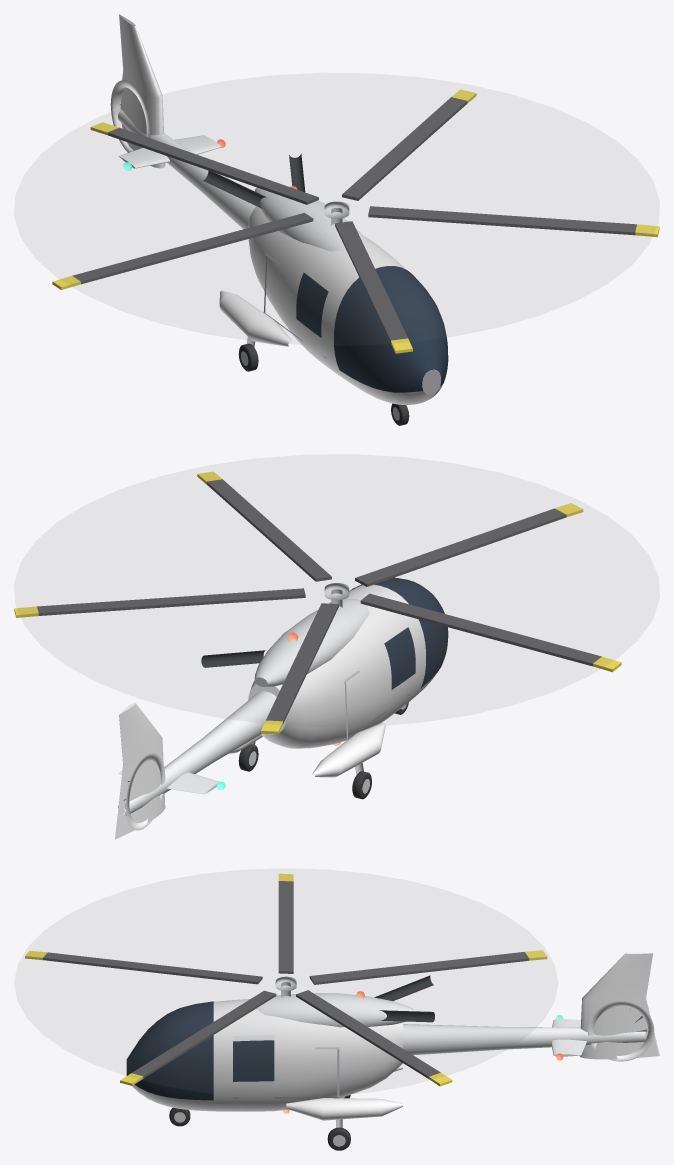
3 renders of one model, top to bottom at view 1: azimuth 30°, elevation 25°; view 2: azimuth 150°, elevation 25°; view 3: azimuth 270°, elevation 25°, orthographic. The views are drawn at different scales.
Visible parts, largest first — view 1: airframe, rotor; view 2: airframe, rotor; view 3: airframe, rotor.
Part boxes in pixels (left/top/right/bottom): airframe: left=110, top=14, right=448, bottom=425; rotor: left=52, top=89, right=659, bottom=353; airframe: left=115, top=577, right=448, bottom=839; rotor: left=14, top=471, right=621, bottom=734; airframe: left=126, top=952, right=659, bottom=1150; rotor: left=25, top=873, right=547, bottom=1086.
Size of the model in its own units: 12.6 by 4.42 by 14.95.
